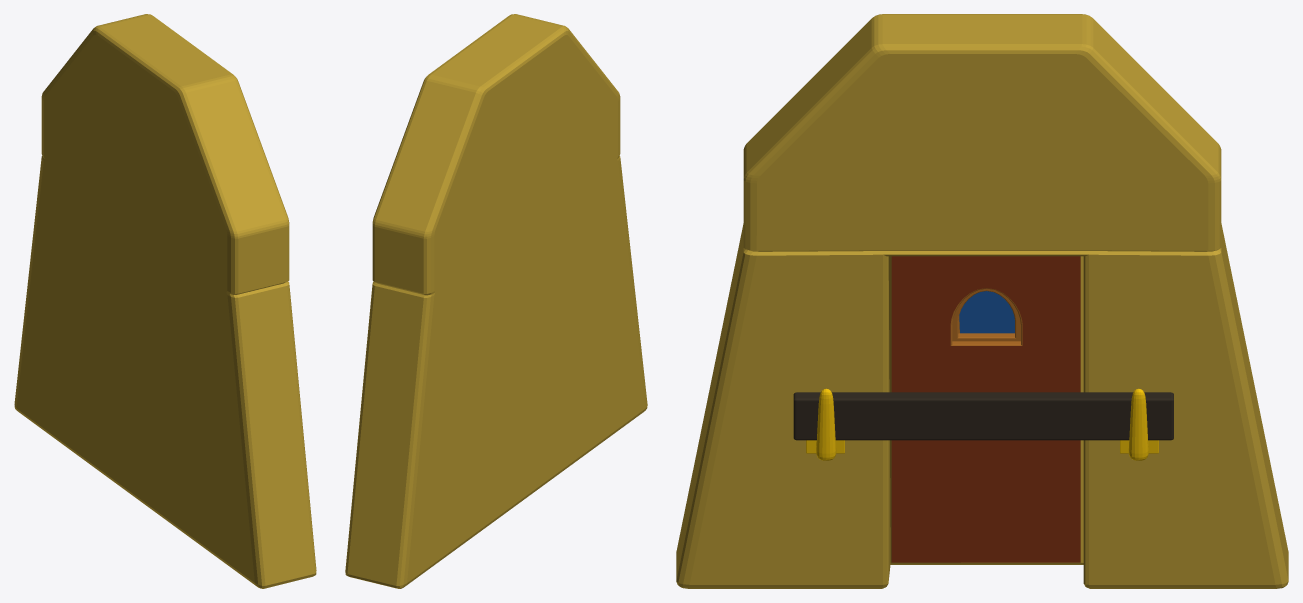
File: yellowroom_door.fbx
3 views of the same model, side by side, from view 1: azimuth 30°, elevation 25°; view 2: azimuth 150°, elevation 25°; view 3: azimuth 270°, elevation 25° (orthographic). The views are drawn at different scales.
Visible parts, largest first — view 1: specialdoor; view 2: specialdoor; view 3: specialdoor.
Boxes of the visible parts, left/top/right/bottom form: specialdoor: left=14, top=14, right=316, bottom=588; specialdoor: left=345, top=14, right=647, bottom=588; specialdoor: left=676, top=14, right=1288, bottom=588.
Bounding box in the file's own units: 83.14 × 421 × 429.
